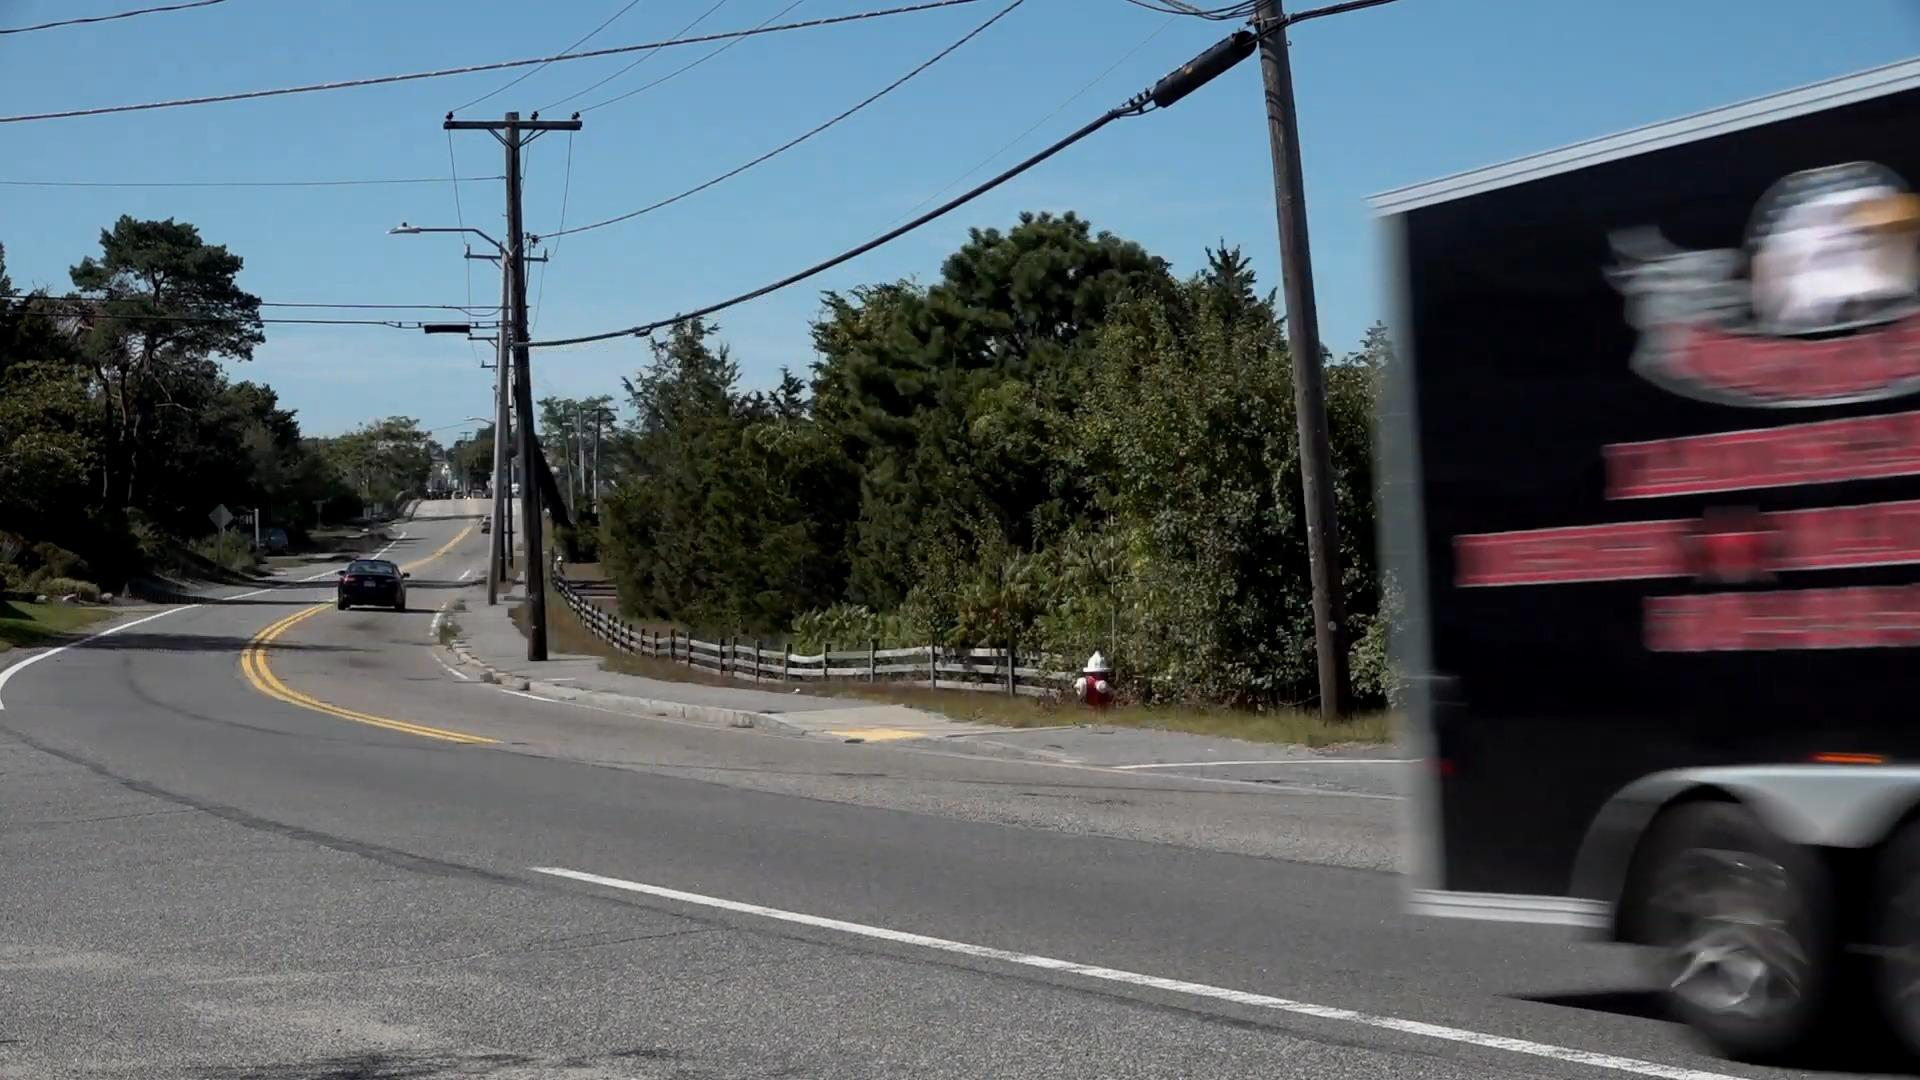truck: (1370, 54, 1919, 1055)
